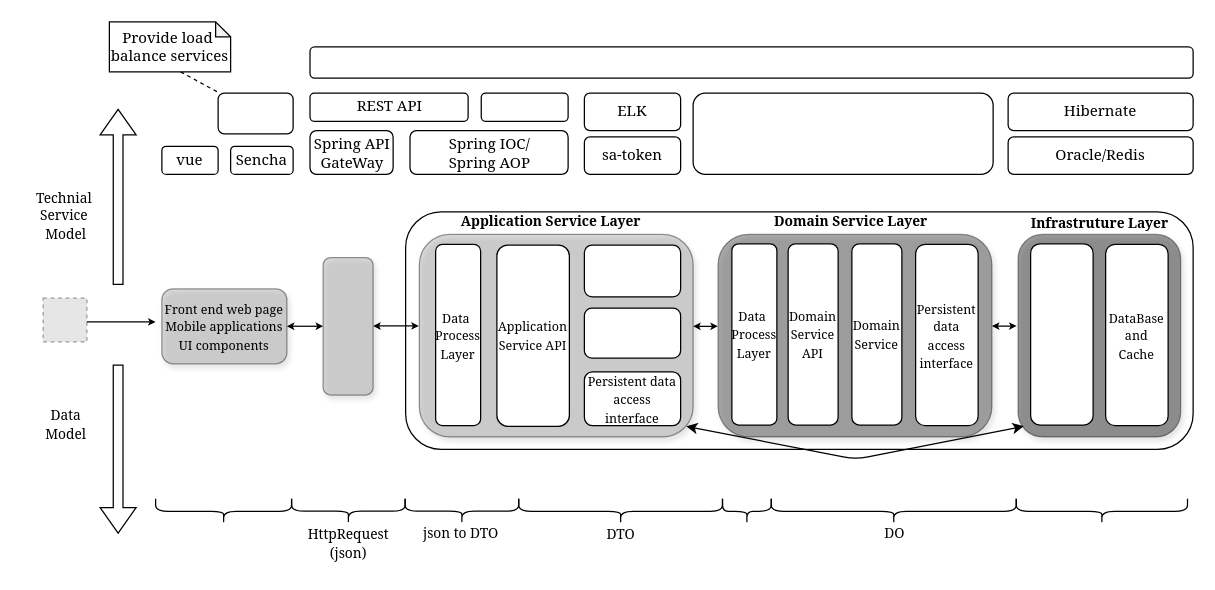
Some shapes in this 1215 by 590 pixel diagram are drawn without their labels. Grey dashed boxes stand in for pictures. Each missing label, with the centre of its shape:
activeMQ/gRPC: [842,133]
API GateWay: [349,327]
Application Service: [632,332]
DTO to DO: [746,511]
Exteral API and General Service: [632,270]
nacos: [524,106]
nginx: [255,113]
Persistent data Layer: [1061,333]
PO: [1101,511]
Spring Boot/Spring Cloud: [751,62]
VO: [223,511]
